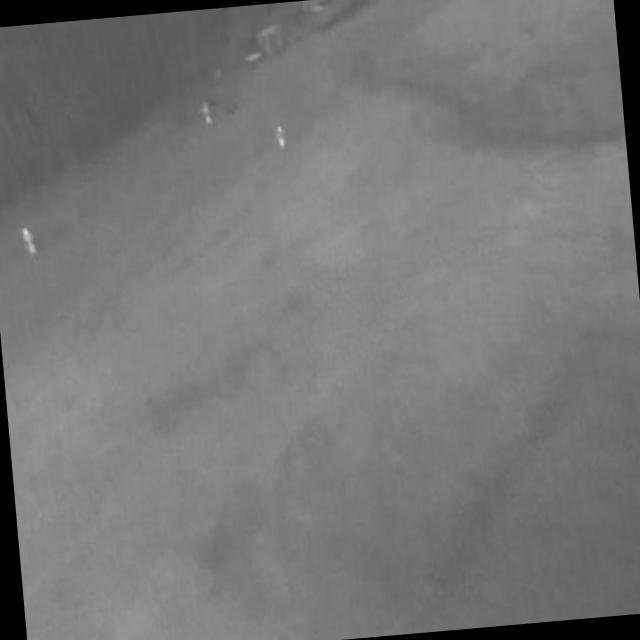person: (21, 227, 38, 258), (202, 102, 214, 128), (277, 126, 287, 150)
